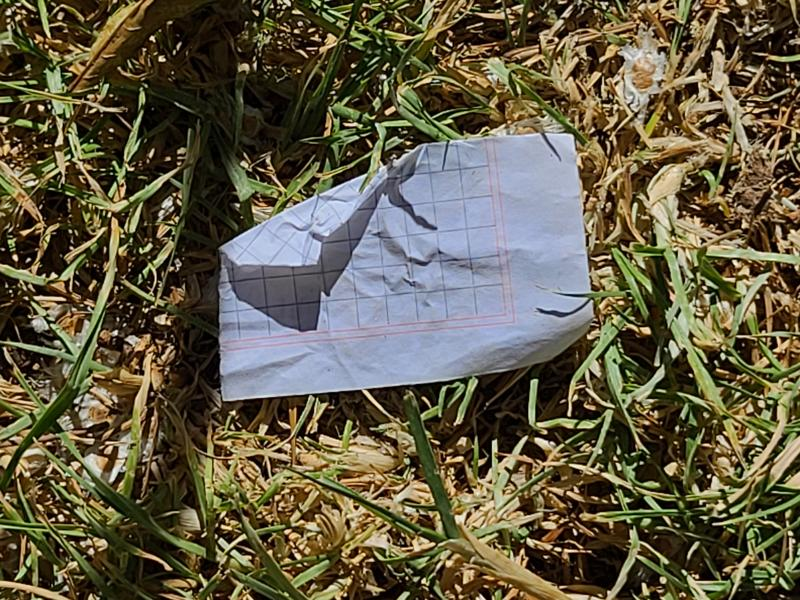papel: (218, 132, 595, 405)
